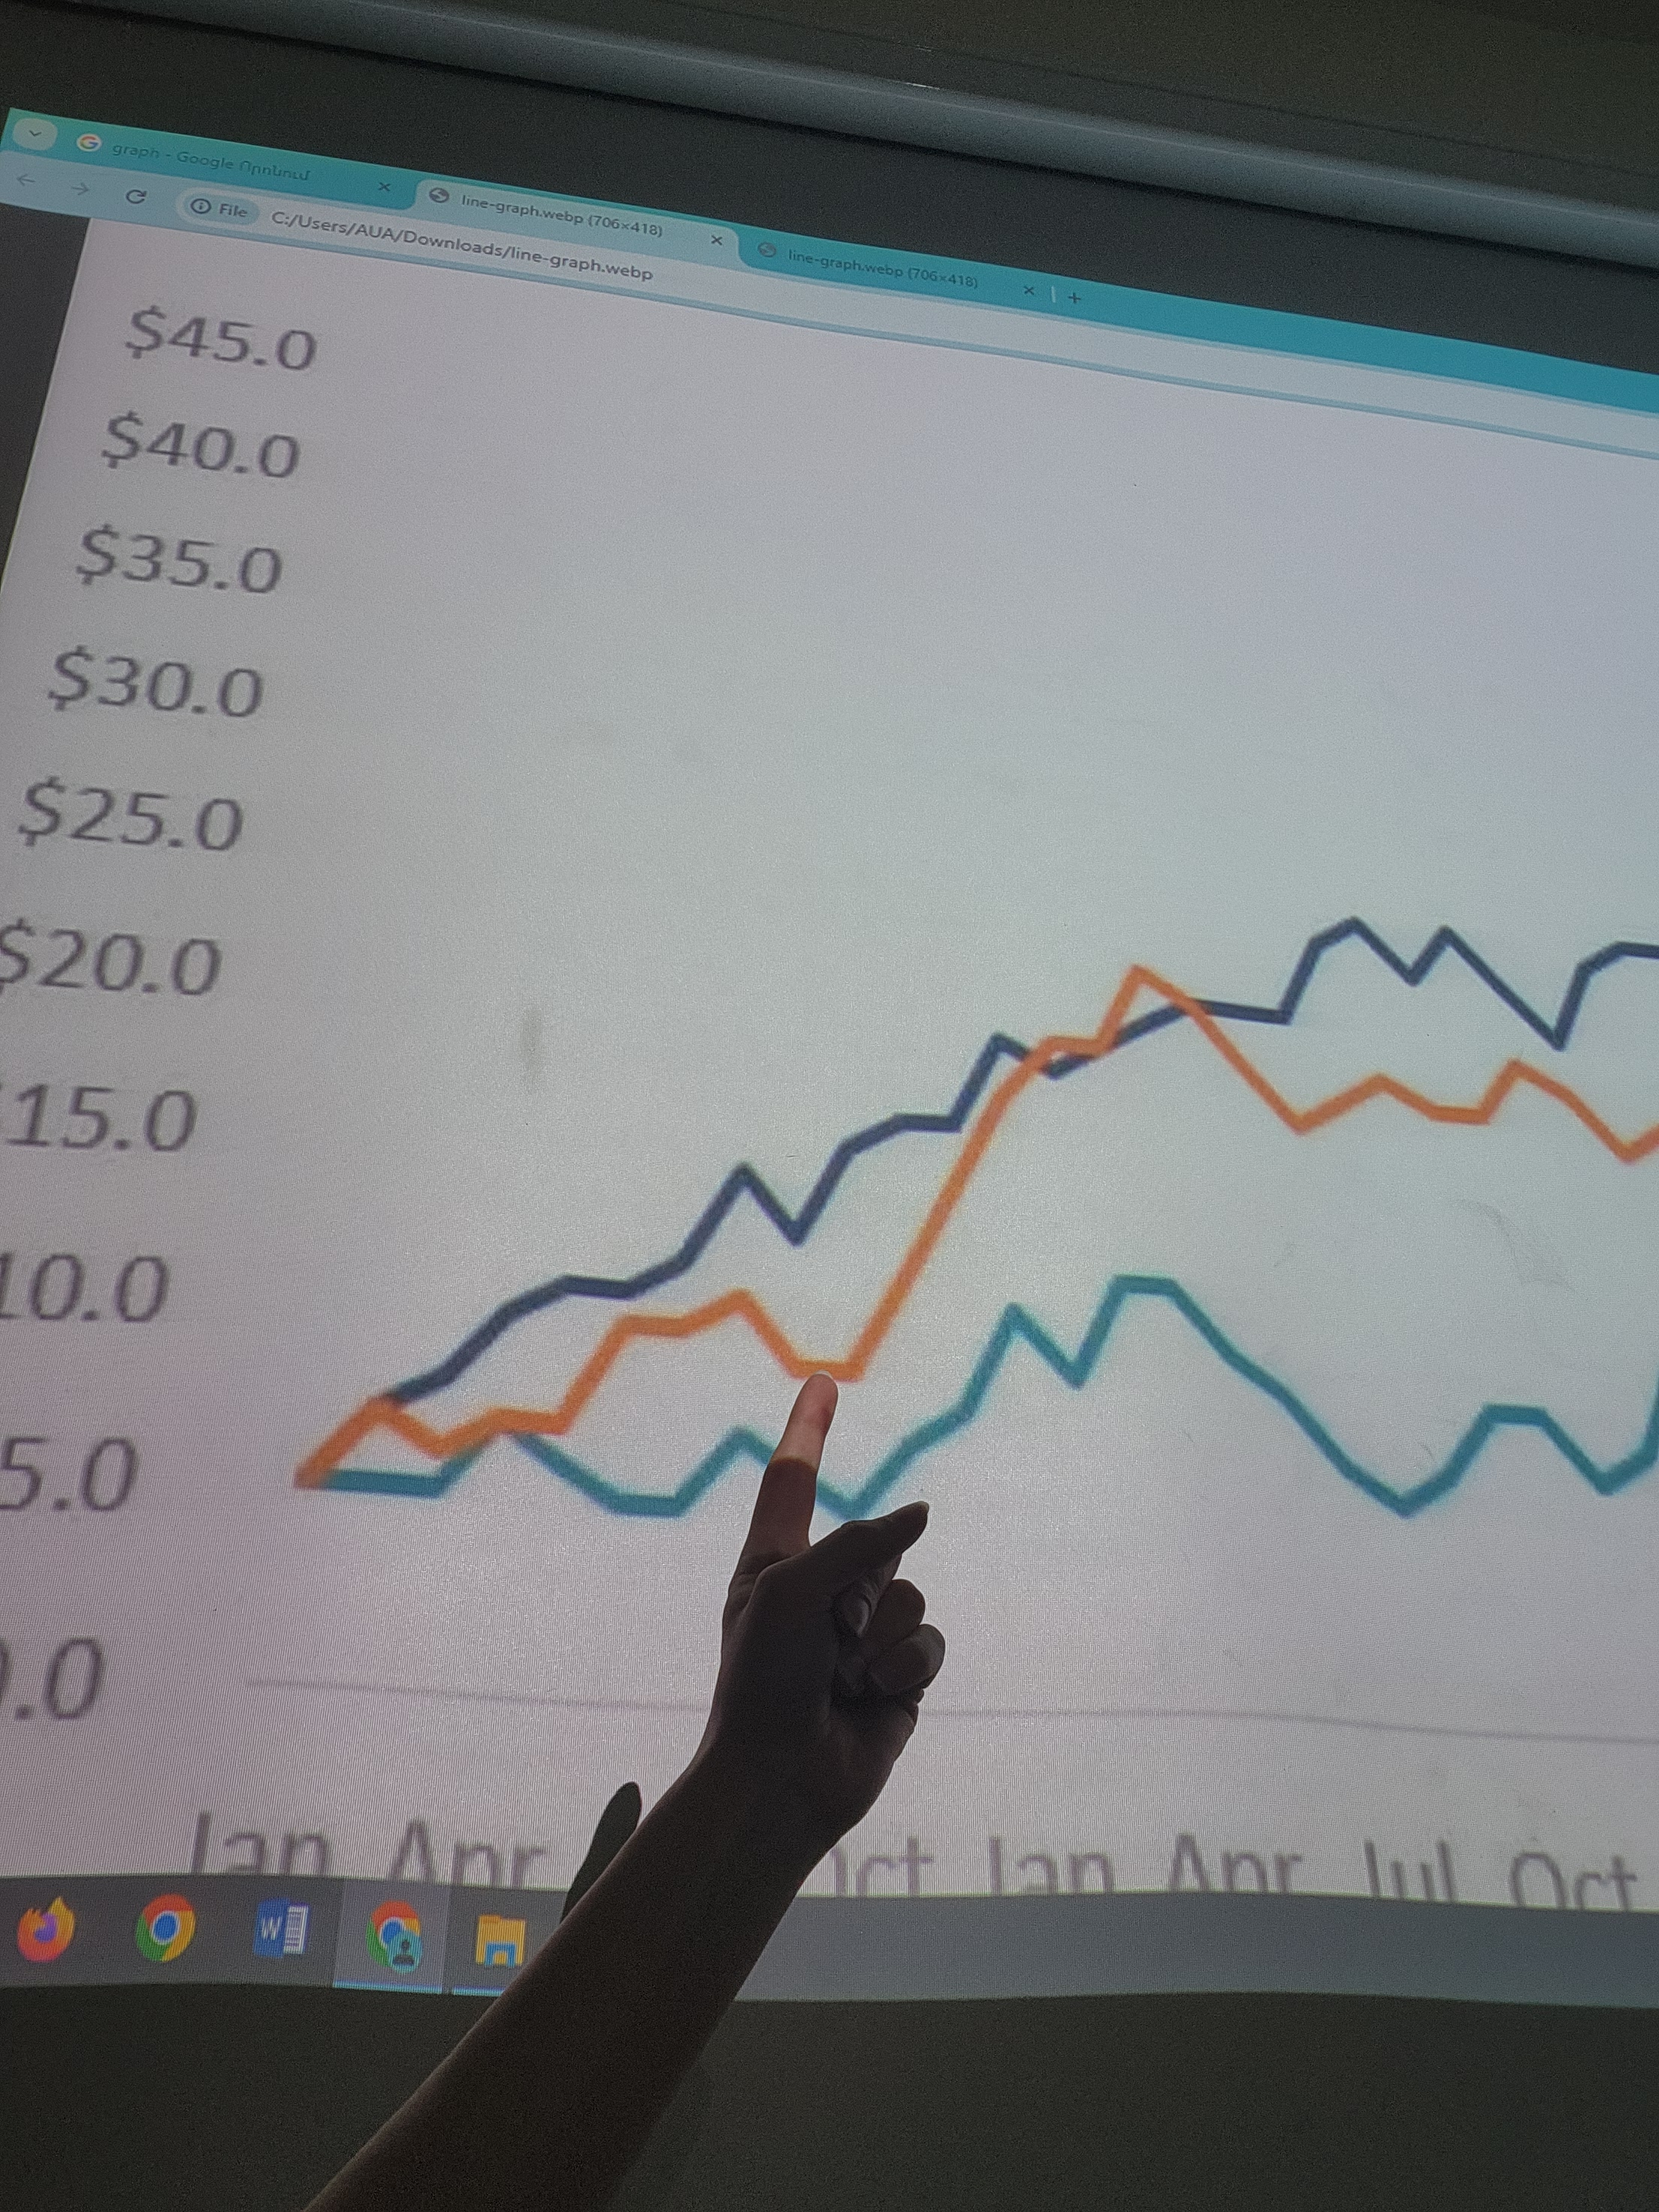pointing_gesture: (714, 1367, 954, 1867)
